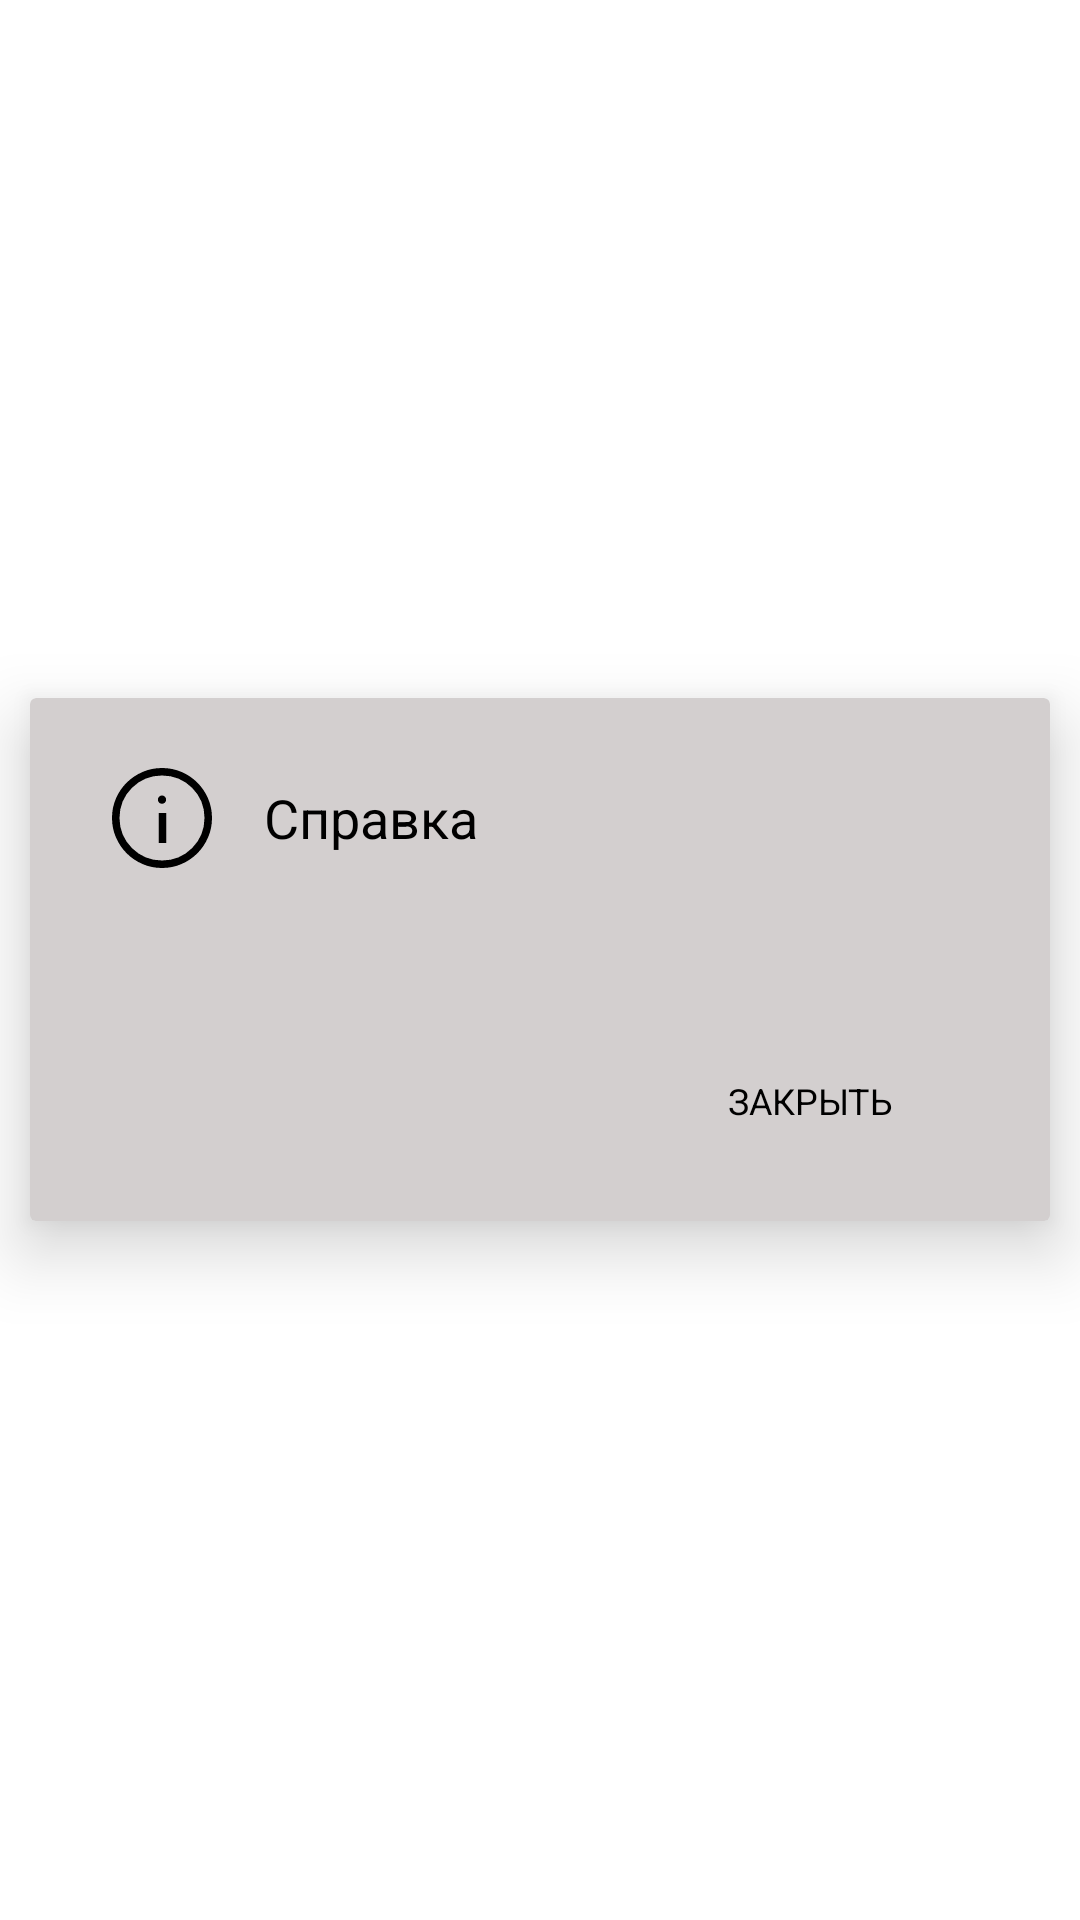

Named icons in this screenshot (1080 × 1920) and their bounding boxes, bbox(x1, y1, x2, y2):
info: bbox(112, 768, 212, 868)
